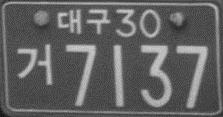0: (139, 8, 161, 38)
1: (111, 43, 127, 110)
3: (140, 43, 172, 107), (114, 7, 136, 38)
7: (175, 43, 210, 111), (62, 42, 98, 107)
거: (15, 43, 54, 87)
대구_O: (56, 8, 111, 35)
